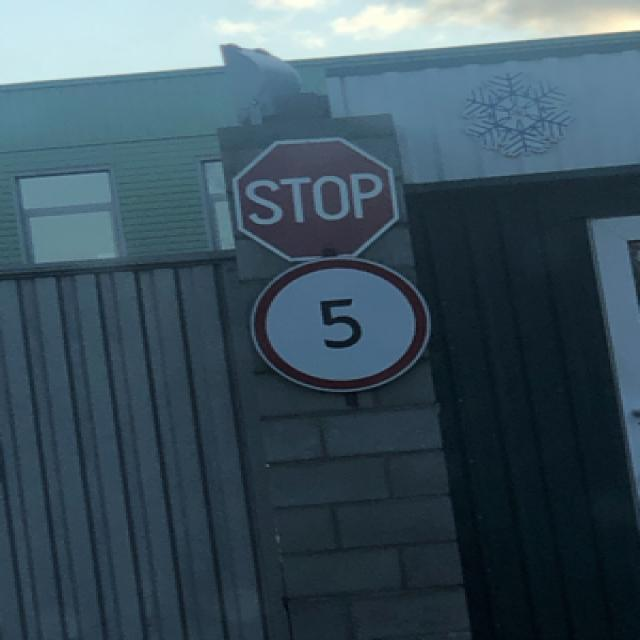stop: (228, 136, 404, 263)
